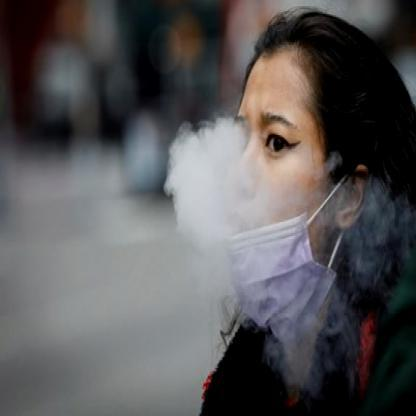smoke: (164, 121, 252, 258)
